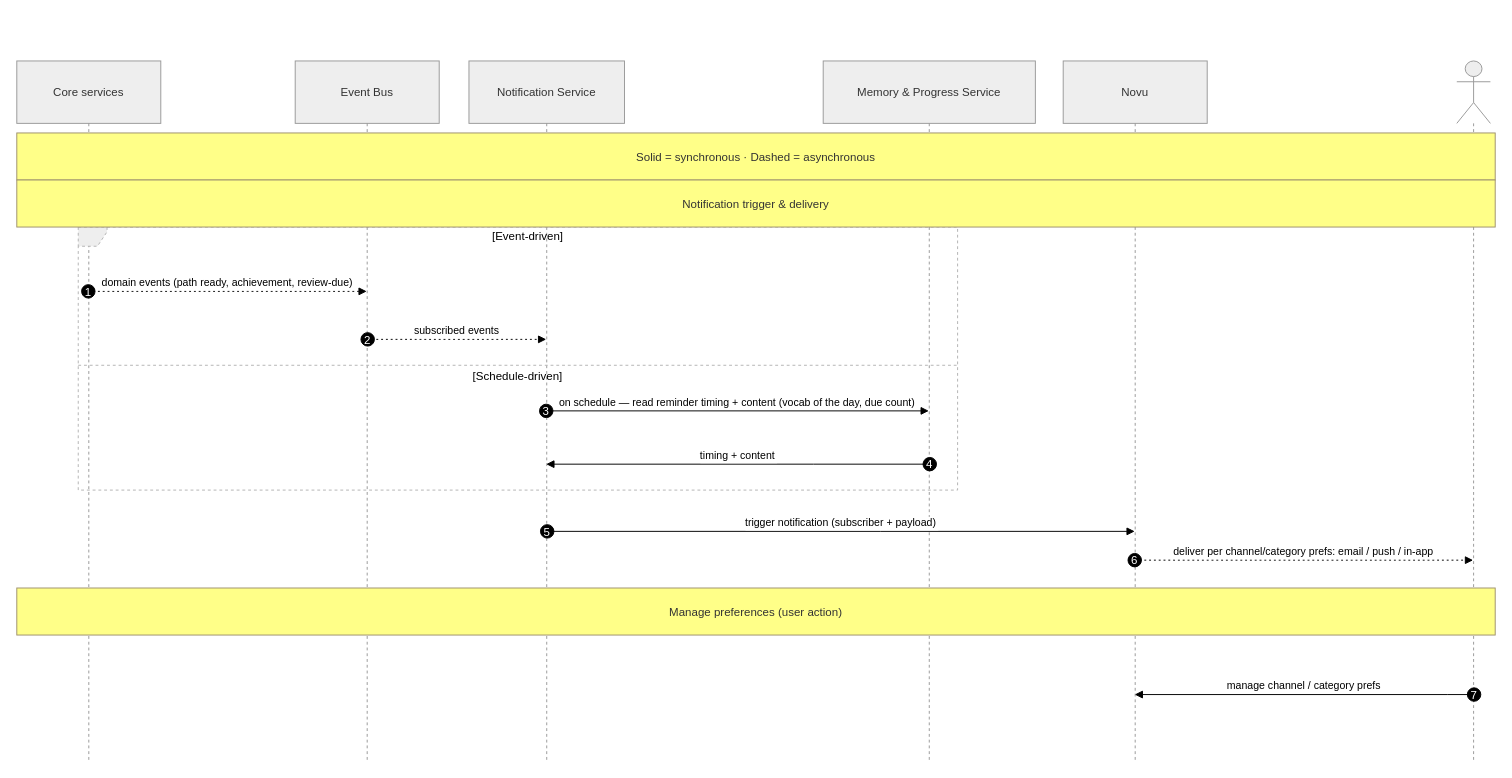
This 1512x778 diagram has some shape labels left out. Each missing label, with the box of its shape:
alt: (77, 226, 958, 490)
Learner (device / PWA): (1456, 60, 1490, 761)
